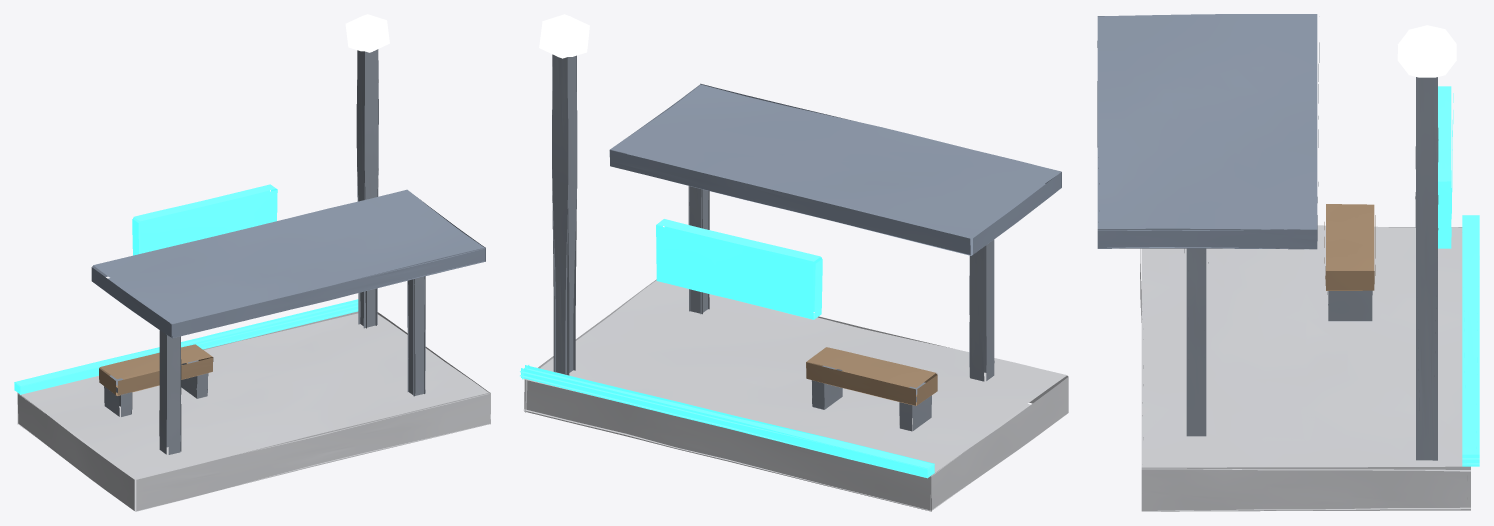
Rendered from station.glb.
3 renders of one model, left to right at view 1: azimuth 30°, elevation 25°; view 2: azimuth 150°, elevation 25°; view 3: azimuth 270°, elevation 25°, orthographic. The views are drawn at different scales.
Parts seen in each view (by area): view 1: MetroStation; view 2: MetroStation; view 3: MetroStation.
Part boxes in pixels (left/top/right/bottom): MetroStation: left=14, top=14, right=490, bottom=511; MetroStation: left=520, top=14, right=1068, bottom=511; MetroStation: left=1097, top=14, right=1479, bottom=511.
Bounding box in the file's own units: 2.61 × 2.39 × 1.74.
